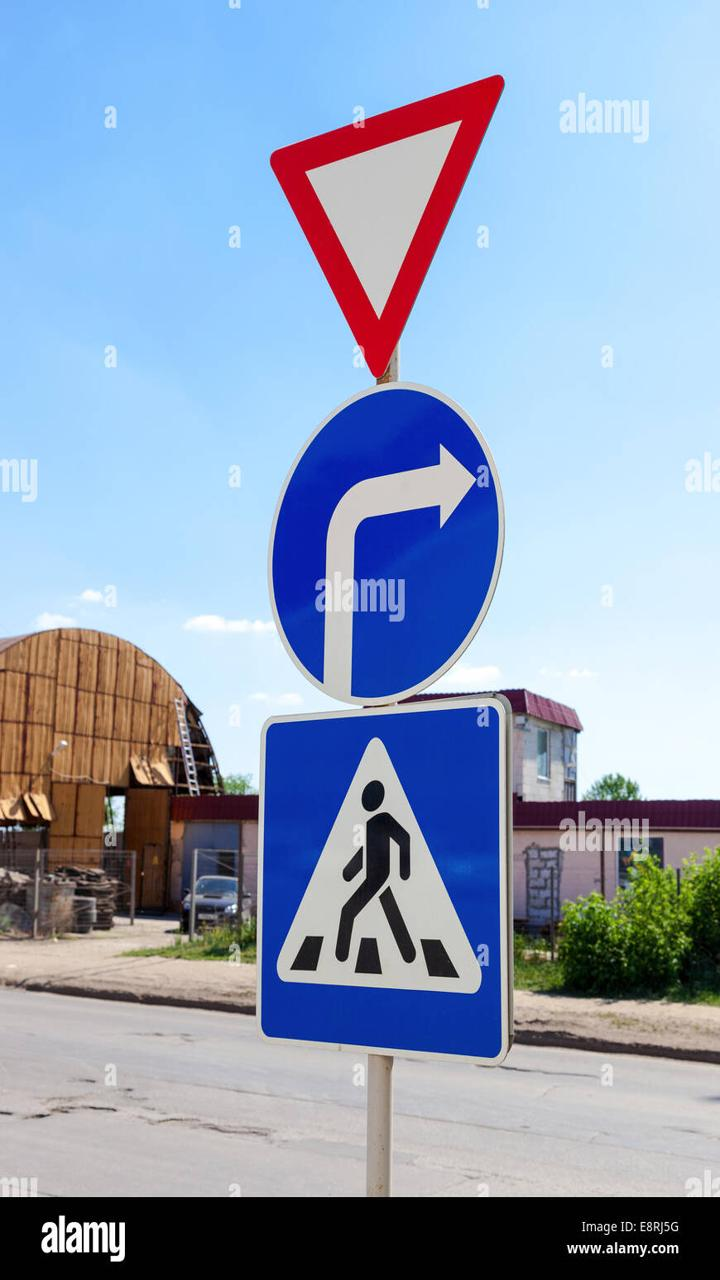Traffic sign: (255, 691, 519, 1065), (255, 76, 510, 388), (264, 385, 519, 697)
vehicle: (174, 871, 244, 936)
